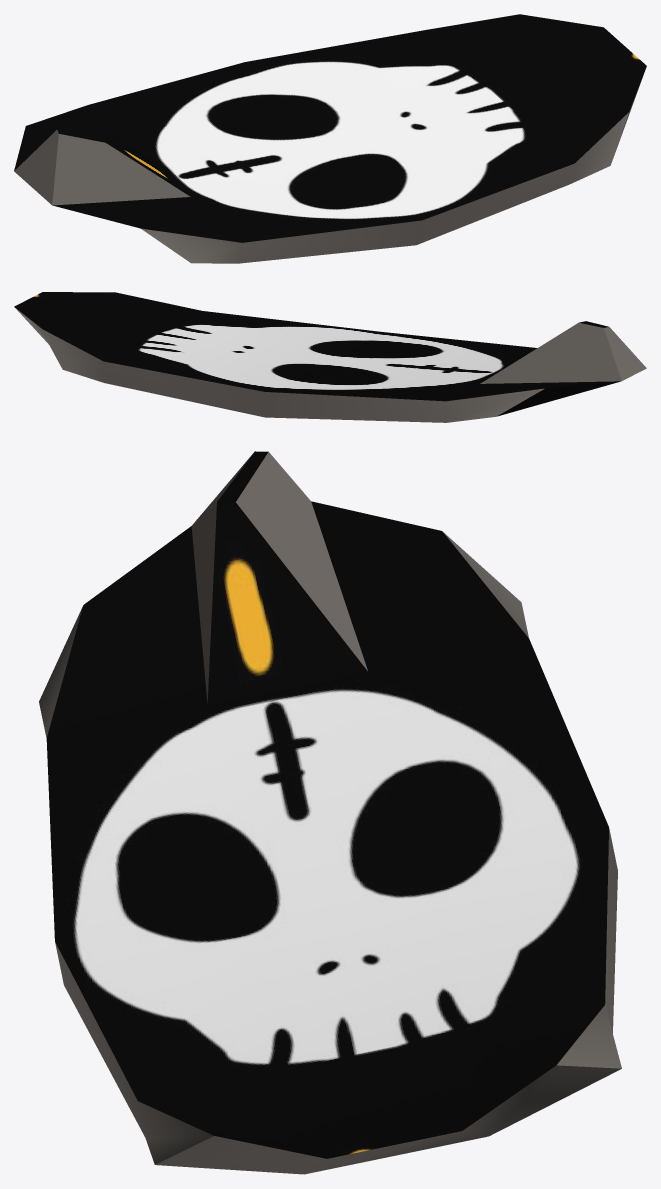
The model's file is Sket_1.fbx.
3 renders of one model, top to bottom at view 1: azimuth 30°, elevation 25°; view 2: azimuth 150°, elevation 25°; view 3: azimuth 270°, elevation 25°, orthographic. The views are drawn at different scales.
Parts seen in each view (by area): view 1: Snowboard02:pasted__pCube4; view 2: Snowboard02:pasted__pCube4; view 3: Snowboard02:pasted__pCube4.
Boxes of the visible parts, bbox=[...] form: Snowboard02:pasted__pCube4: bbox=[14, 14, 646, 263]; Snowboard02:pasted__pCube4: bbox=[14, 292, 646, 422]; Snowboard02:pasted__pCube4: bbox=[39, 451, 621, 1174].
Bounding box in the file's own units: 10.04 × 2.23 × 4.41.
